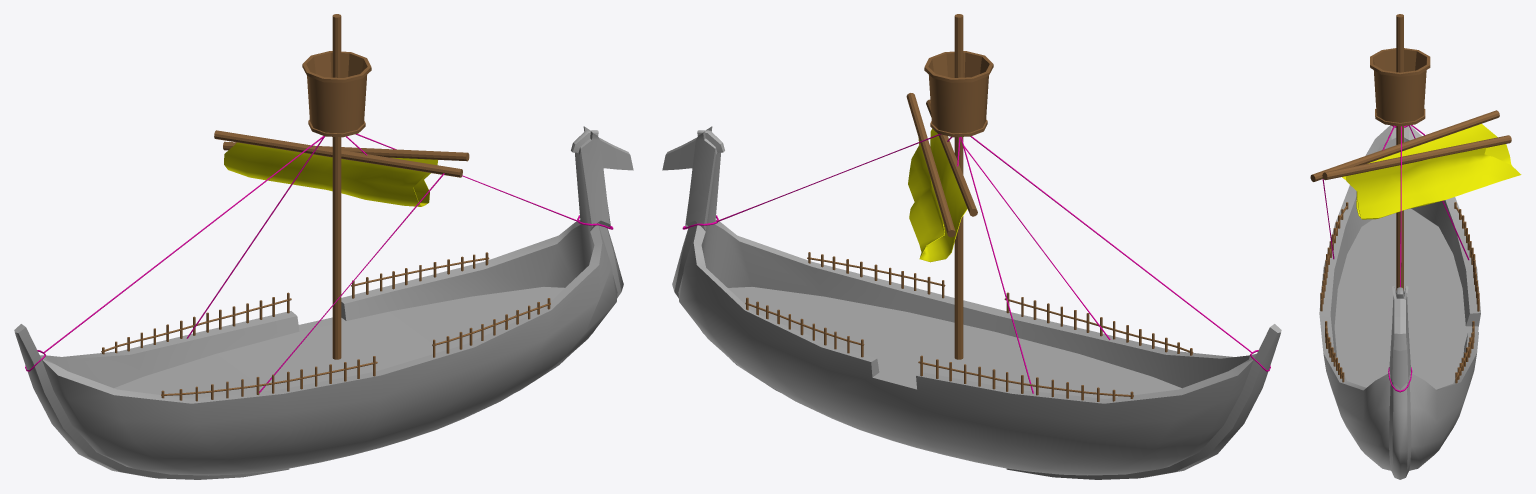
File: Barco5.fbx
The picture shows the model from 3 angles, left to right: view 1: azimuth 30°, elevation 25°; view 2: azimuth 150°, elevation 25°; view 3: azimuth 270°, elevation 25°; orthographic projection. The views are drawn at different scales.
Parts seen in each view (by area): view 1: pSphere3, pPlane9, pCylinder14, pCylinder47, pCylinder1, pCylinder61, pCylinder62, polySurface1, polySurface5; view 2: pSphere3, pCylinder14, pPlane9, pCylinder47, pCylinder1, pCylinder62, polySurface1, polySurface5, pCylinder61; view 3: pSphere3, pPlane9, pCylinder14, pCylinder47, pCylinder62, pCylinder61, pCylinder1, polySurface1, polySurface5.
Part boxes in pixels (box(x1,y1,x2,y2)): pSphere3: box(14, 126, 633, 479); pPlane9: box(224, 142, 437, 206); pCylinder14: box(302, 51, 371, 137); pCylinder47: box(101, 252, 550, 401); pCylinder1: box(332, 14, 341, 359); pCylinder61: box(214, 130, 462, 177); pCylinder62: box(223, 141, 469, 161); polySurface1: box(25, 134, 613, 371); polySurface5: box(186, 136, 444, 393); pSphere3: box(662, 126, 1281, 479); pCylinder14: box(924, 51, 993, 137); pPlane9: box(908, 128, 967, 262); pCylinder47: box(745, 252, 1193, 401); pCylinder1: box(954, 14, 963, 359); pCylinder62: box(906, 93, 955, 237); polySurface1: box(682, 134, 1270, 371); polySurface5: box(960, 137, 1110, 393); pCylinder61: box(926, 99, 977, 216); pSphere3: box(1319, 125, 1480, 479); pPlane9: box(1342, 123, 1521, 219); pCylinder14: box(1370, 48, 1430, 126); pCylinder47: box(1320, 202, 1479, 383); pCylinder62: box(1322, 135, 1511, 180); pCylinder61: box(1310, 110, 1499, 181); pCylinder1: box(1396, 14, 1403, 290); polySurface1: box(1388, 125, 1412, 392); polySurface5: box(1322, 125, 1469, 260).
Size of the model in its own units: 167167 by 114146 by 54318.
